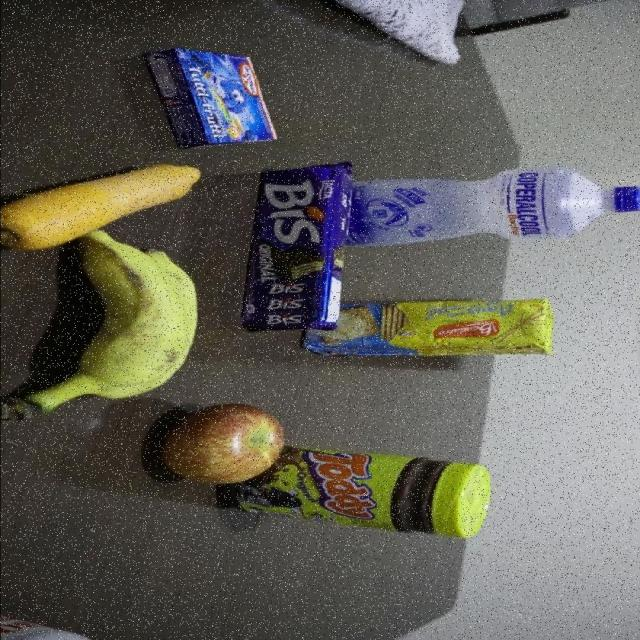AlcoholBottle: (354, 168, 640, 249)
Apple: (158, 408, 282, 484)
Banana: (0, 253, 198, 413)
Carrot: (0, 164, 204, 241)
ChocolatePowder: (286, 452, 496, 538)
Cracker: (338, 299, 551, 360)
Gelatine: (143, 49, 278, 150)
